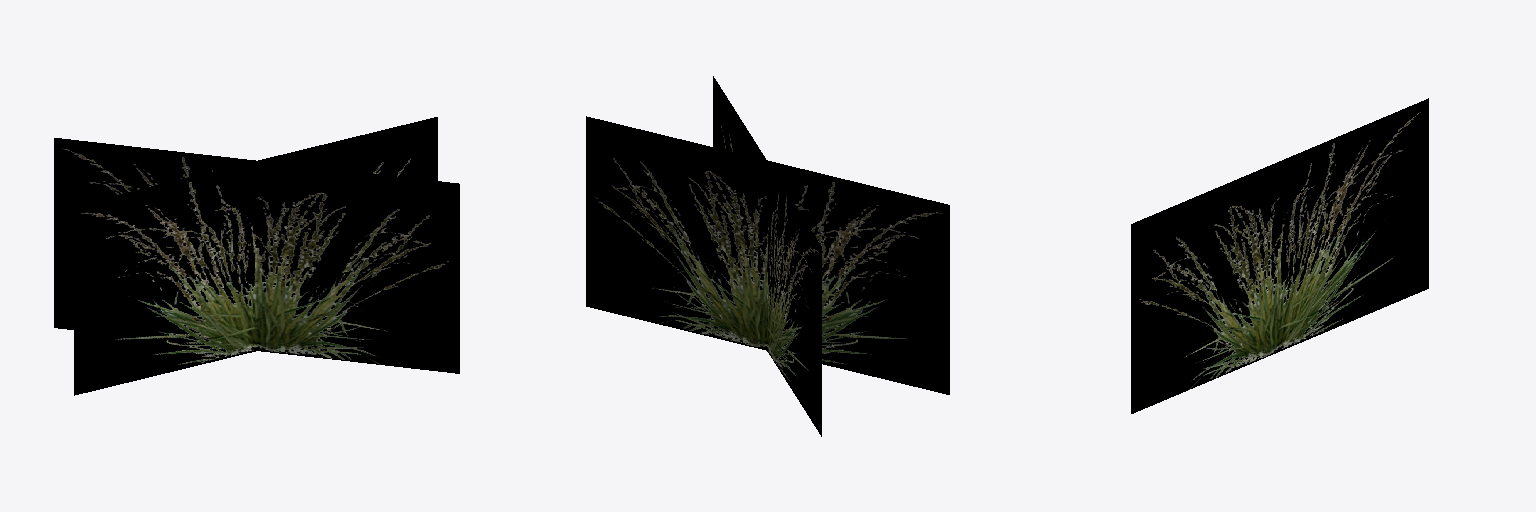
The picture shows the model from 3 angles: view 1: azimuth 30°, elevation 25°; view 2: azimuth 150°, elevation 25°; view 3: azimuth 270°, elevation 25°; orthographic projection.
Visible parts, largest first — view 1: grass01; view 2: grass01; view 3: grass01.
Boxes of the visible parts, x1,y1,x2,y2 form: grass01: [54, 117, 459, 395]; grass01: [586, 76, 949, 436]; grass01: [1131, 98, 1428, 413].
Bounding box in the file's own units: 2 × 1 × 1.41.
Materials: 1 (1 with a texture image).